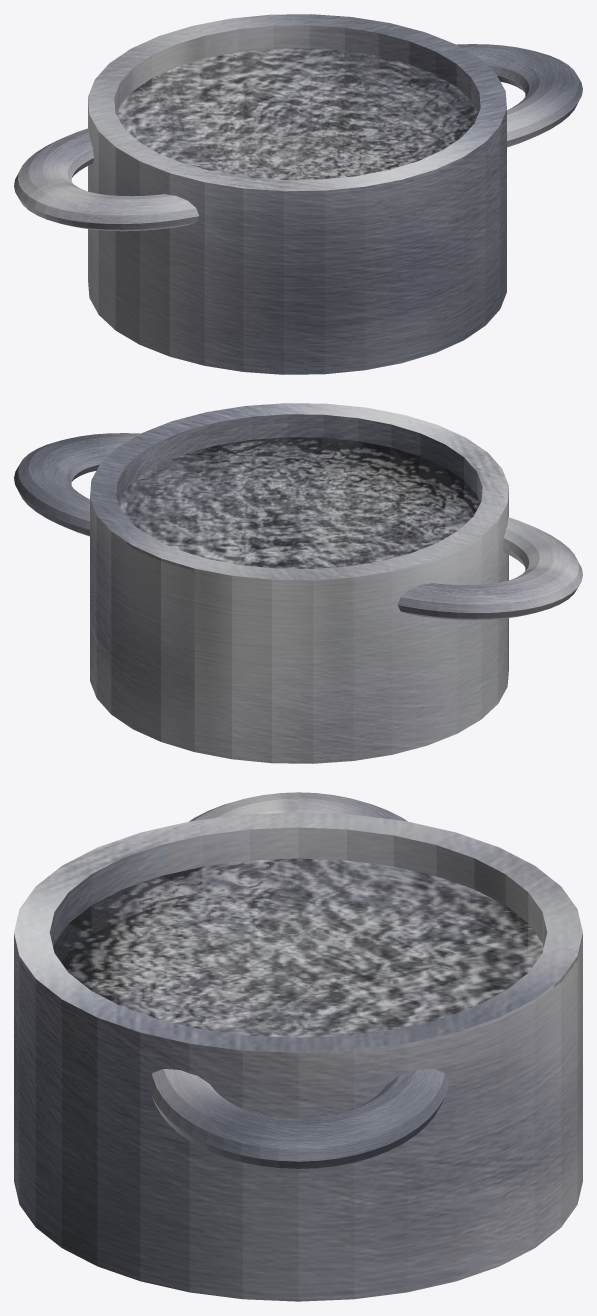
The model's file is nabe.obj.
3 renders of one model, top to bottom at view 1: azimuth 30°, elevation 25°; view 2: azimuth 150°, elevation 25°; view 3: azimuth 270°, elevation 25°, orthographic. The views are drawn at different scales.
Visible parts, largest first — view 1: 円柱, 平面, トーラス.001, トーラス; view 2: 円柱, 平面, トーラス.001, トーラス; view 3: 円柱, 平面, トーラス, トーラス.001.
Boxes of the visible parts, x1=… form: 円柱: x1=88, y1=14, x2=506, y2=374; 平面: x1=116, y1=48, x2=478, y2=179; トーラス.001: x1=14, y1=128, x2=198, y2=231; トーラス: x1=456, y1=44, x2=582, y2=147; 円柱: x1=90, y1=403, x2=508, y2=763; 平面: x1=118, y1=437, x2=480, y2=568; トーラス.001: x1=398, y1=517, x2=582, y2=620; トーラス: x1=14, y1=433, x2=140, y2=536; 円柱: x1=14, y1=812, x2=582, y2=1301; 平面: x1=53, y1=858, x2=543, y2=1037; トーラス: x1=148, y1=1069, x2=448, y2=1169; トーラス.001: x1=189, y1=792, x2=407, y2=821.
Bounding box in the file's own units: 3 × 0.9649 × 2.
4 materials, 4 textured.
